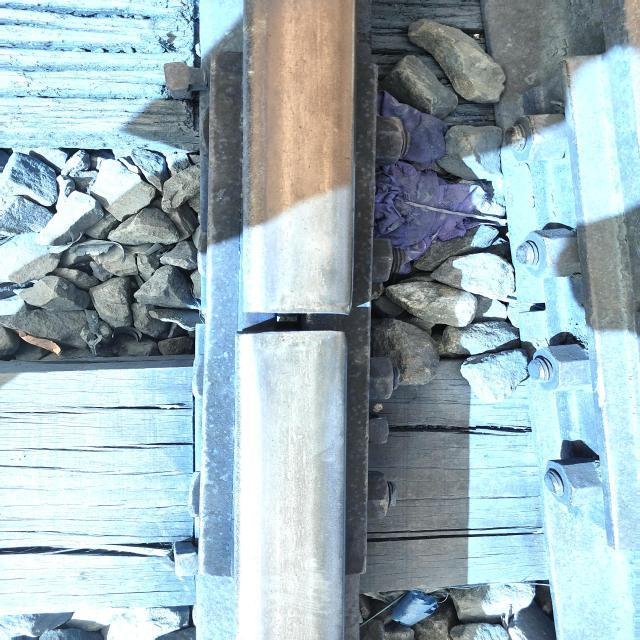Good Joint: (157, 55, 413, 585)
